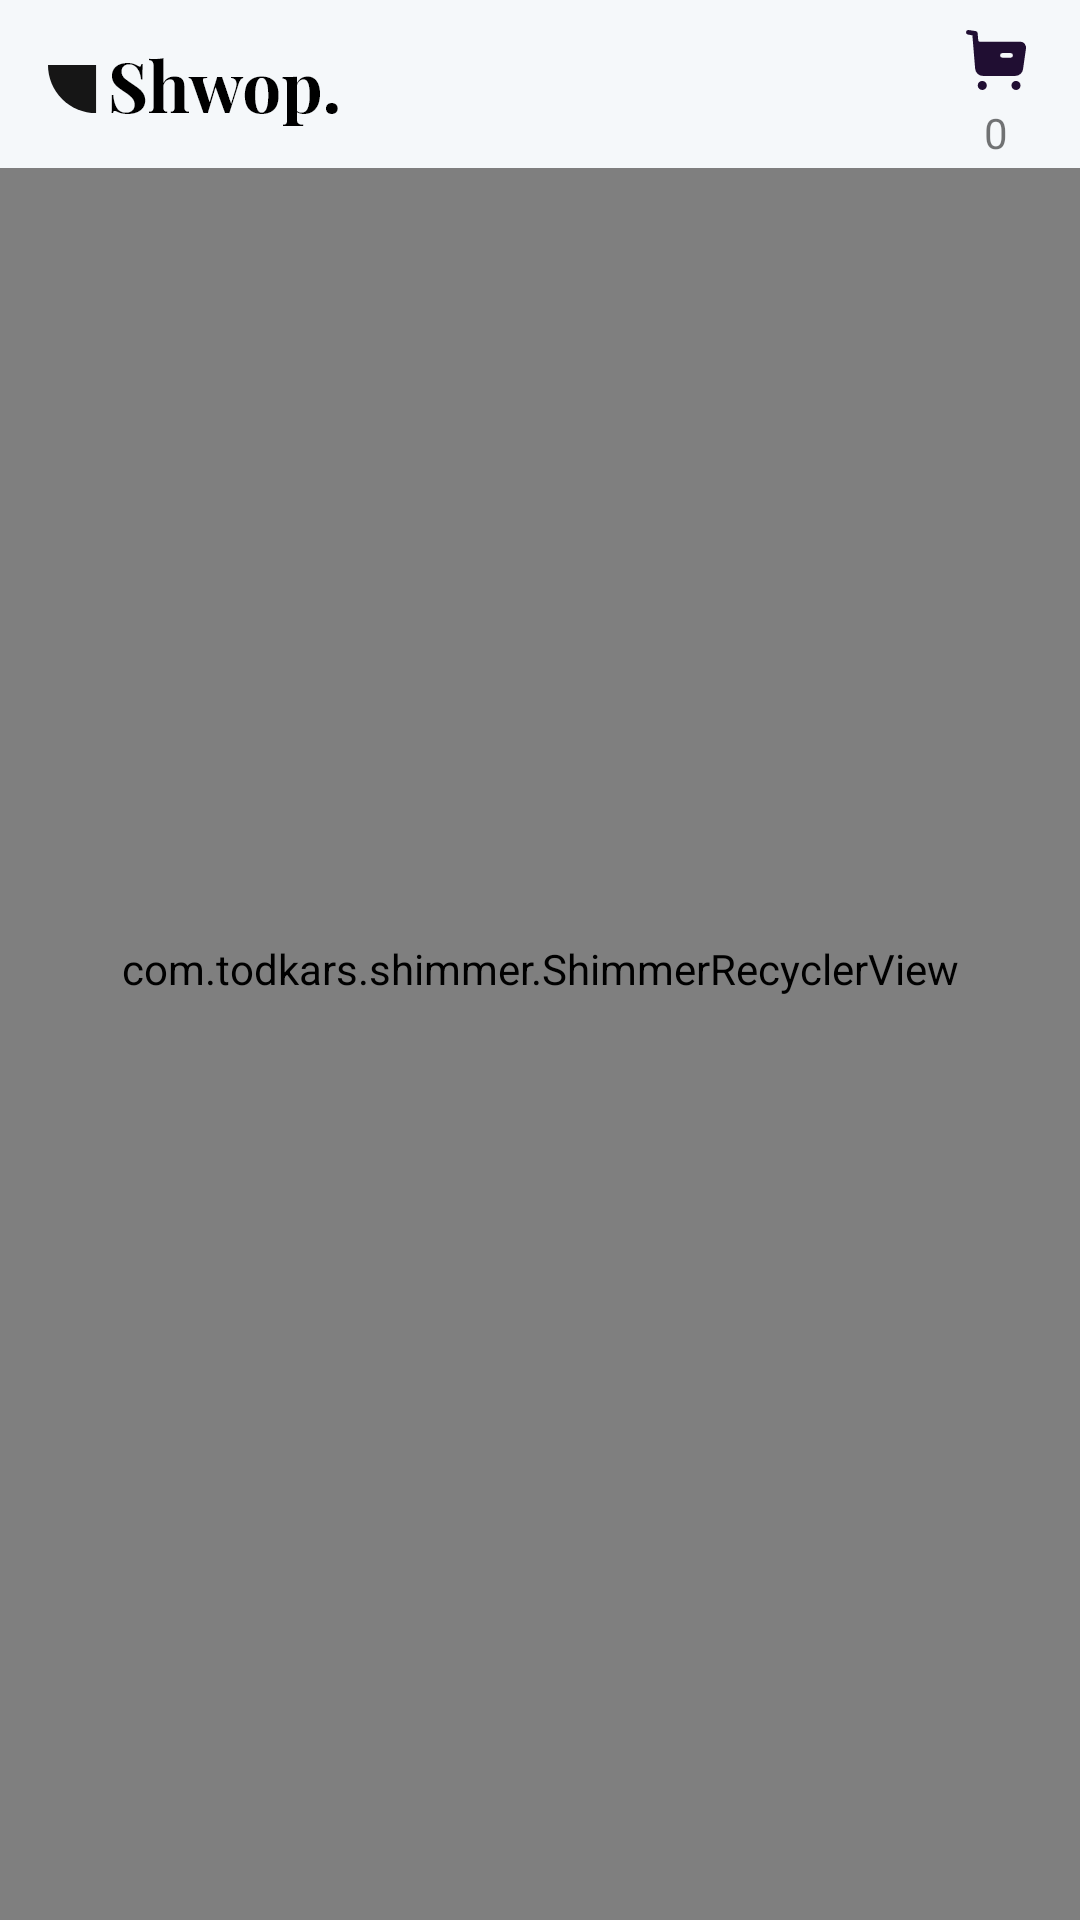

Screen size 1080×1920. Icon name, then its center in pixels as (x,y):
buy: (996,60)
